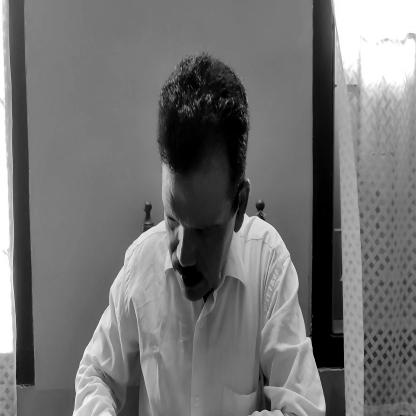Distracted: (151, 54, 245, 311)
